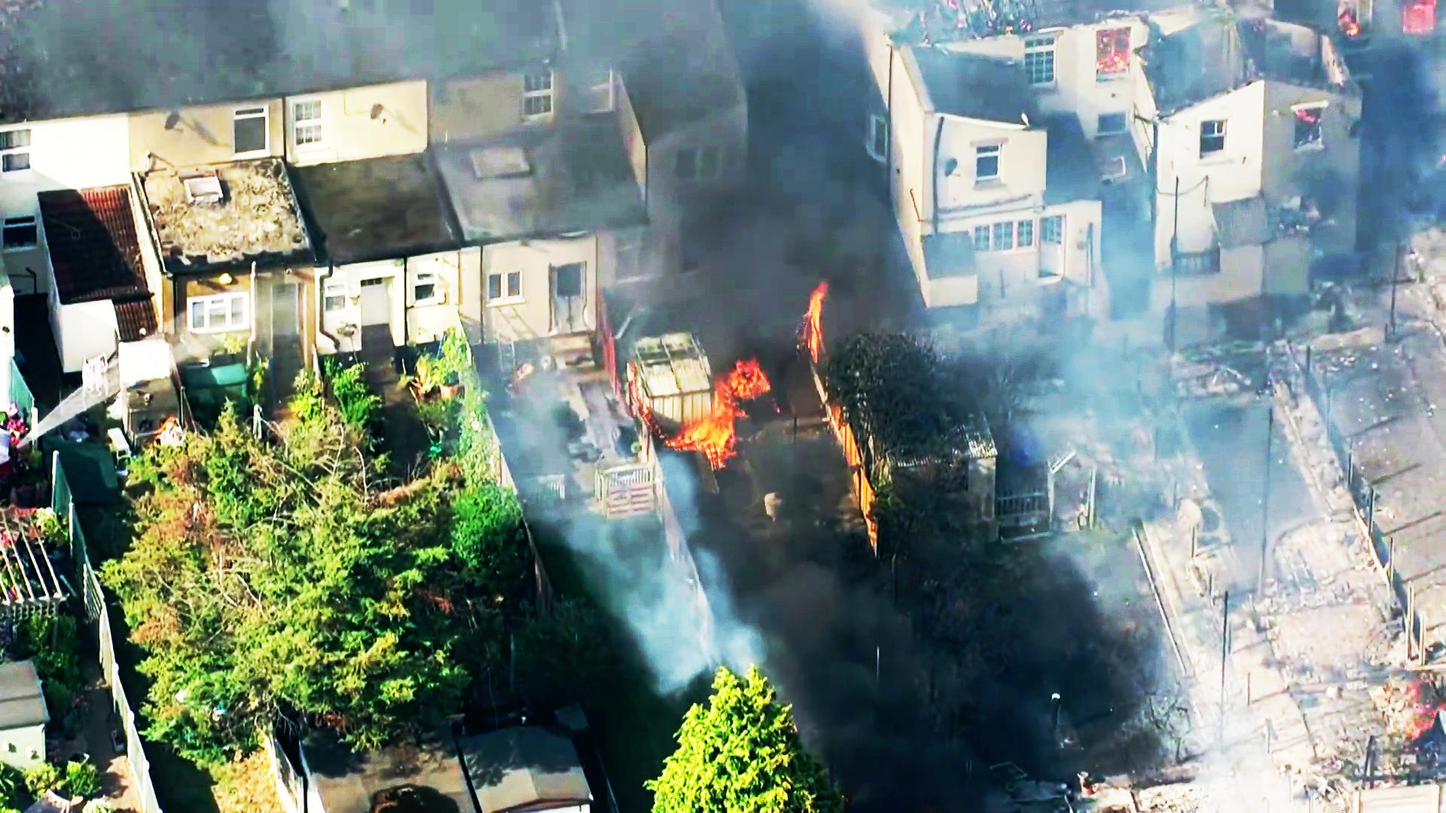fire: (653, 377, 759, 466)
